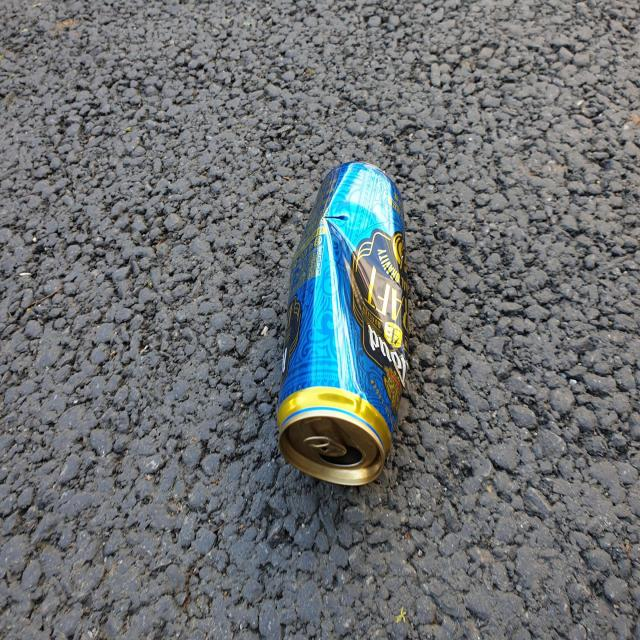can: (277, 162, 409, 486)
